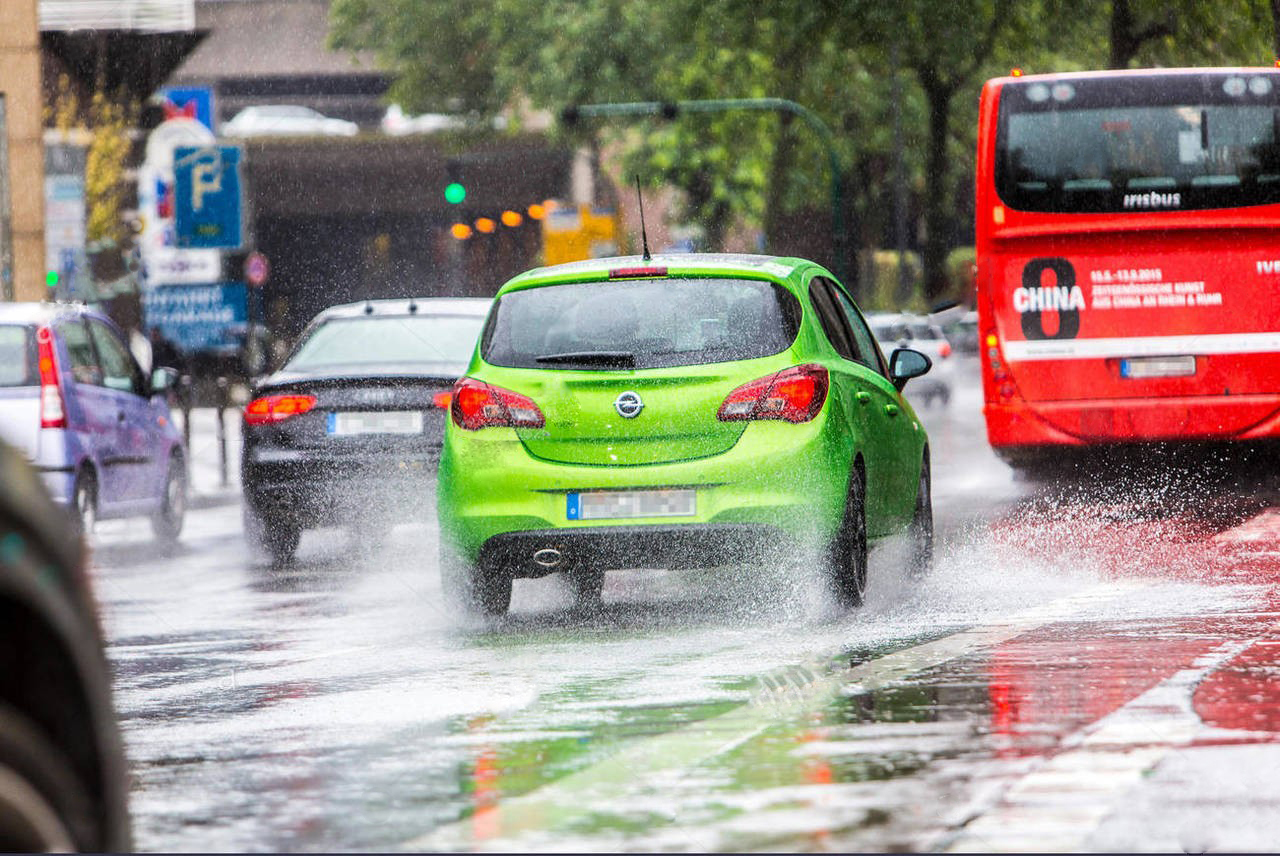bus: (968, 66, 1279, 461)
car: (440, 258, 931, 626), (232, 299, 483, 570), (2, 298, 193, 548), (868, 318, 961, 402)
